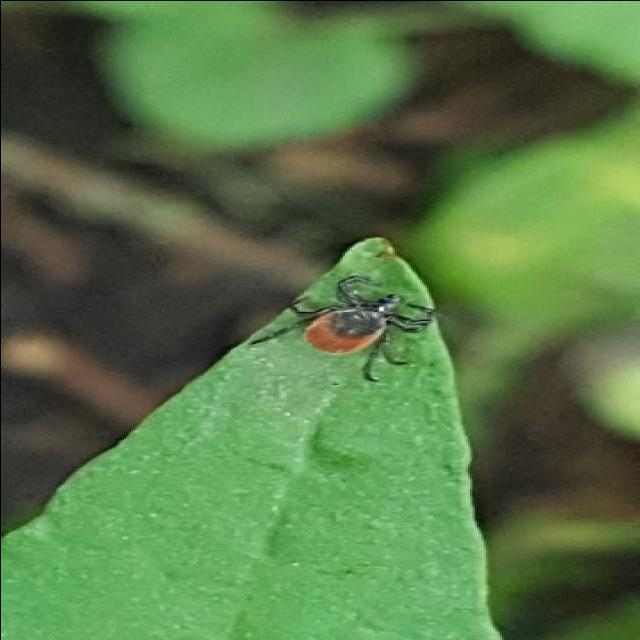Ixodes Ricinus-F: (214, 287, 433, 381)
